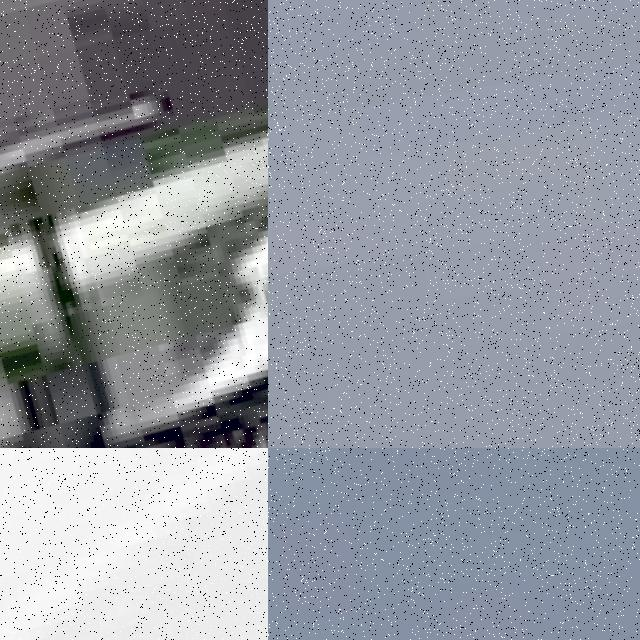0: (0, 0, 268, 448)
drone: (0, 448, 268, 640)
